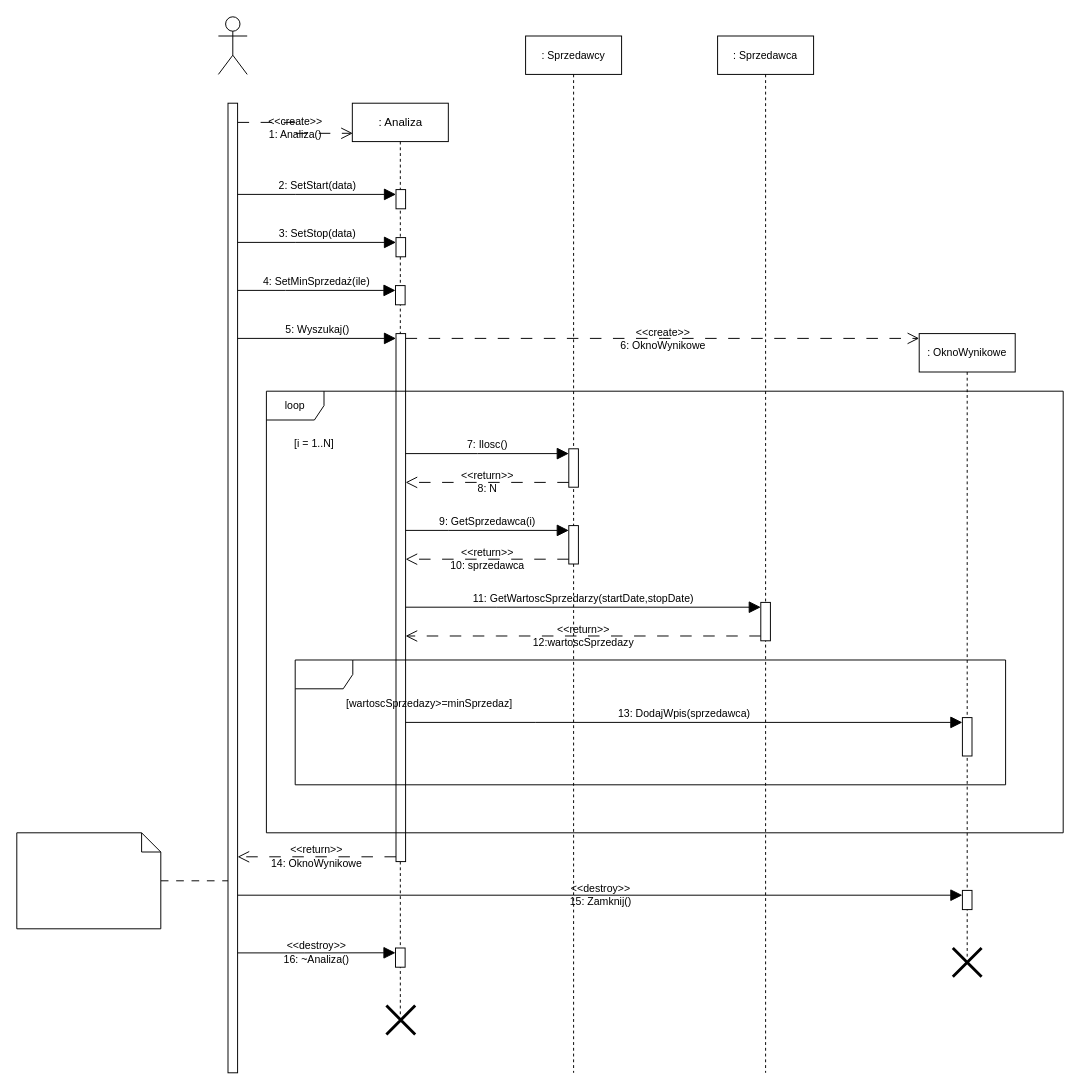
This 1080x1090 diagram has some shape labels left out. The centre of each missing label's shape, as x and y in pixels:
Kierownik: pixel 232 45
Kierownik przegląda pracowników zwróconych przez metodę "Wyszukaj": pixel 88 880
opt: pixel 650 722
